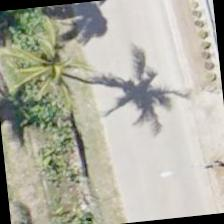Kelapa_Sawit: (0, 18, 91, 118)
